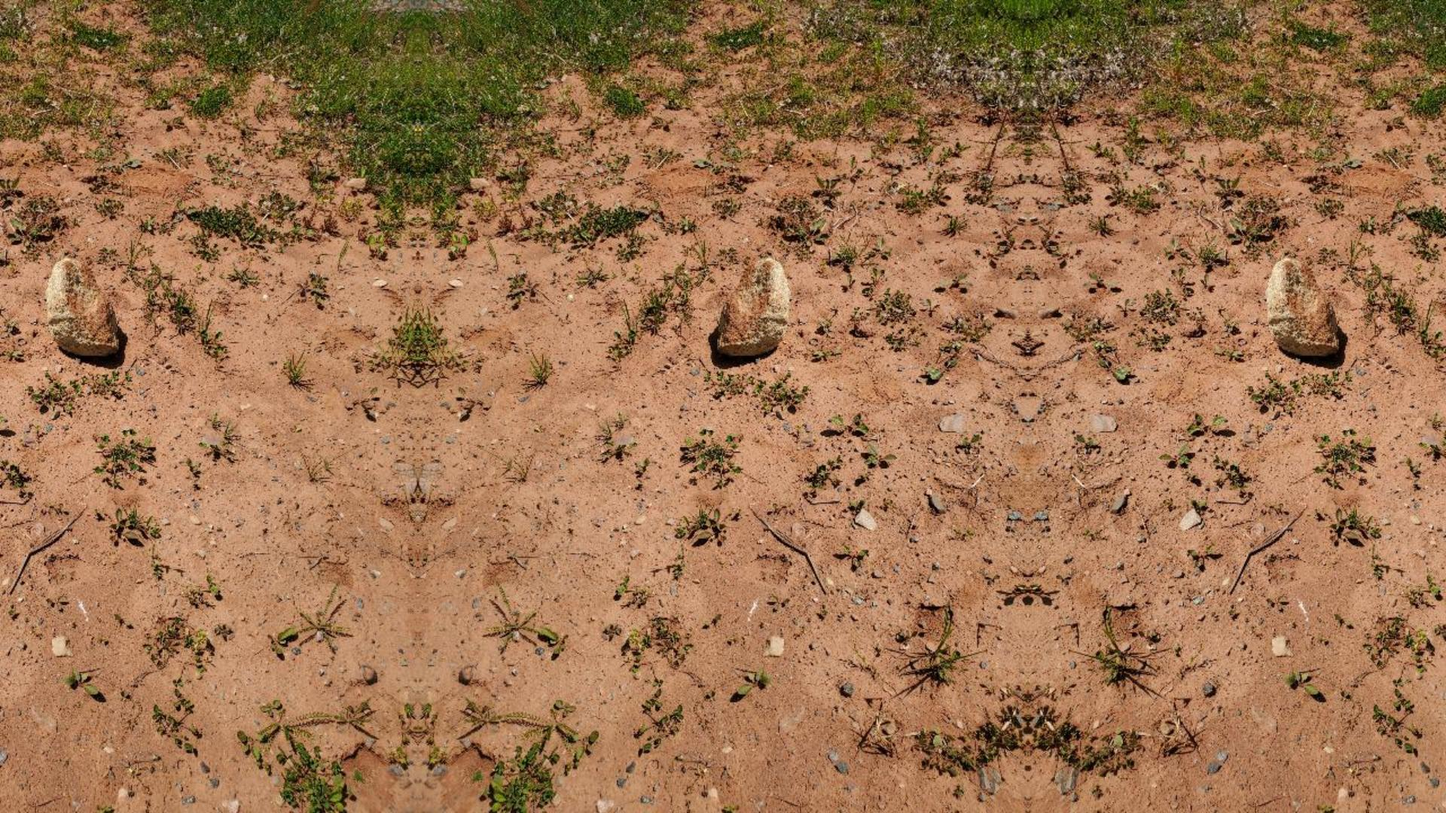rock: (45, 256, 119, 357), (717, 257, 790, 356), (1266, 256, 1338, 356)
